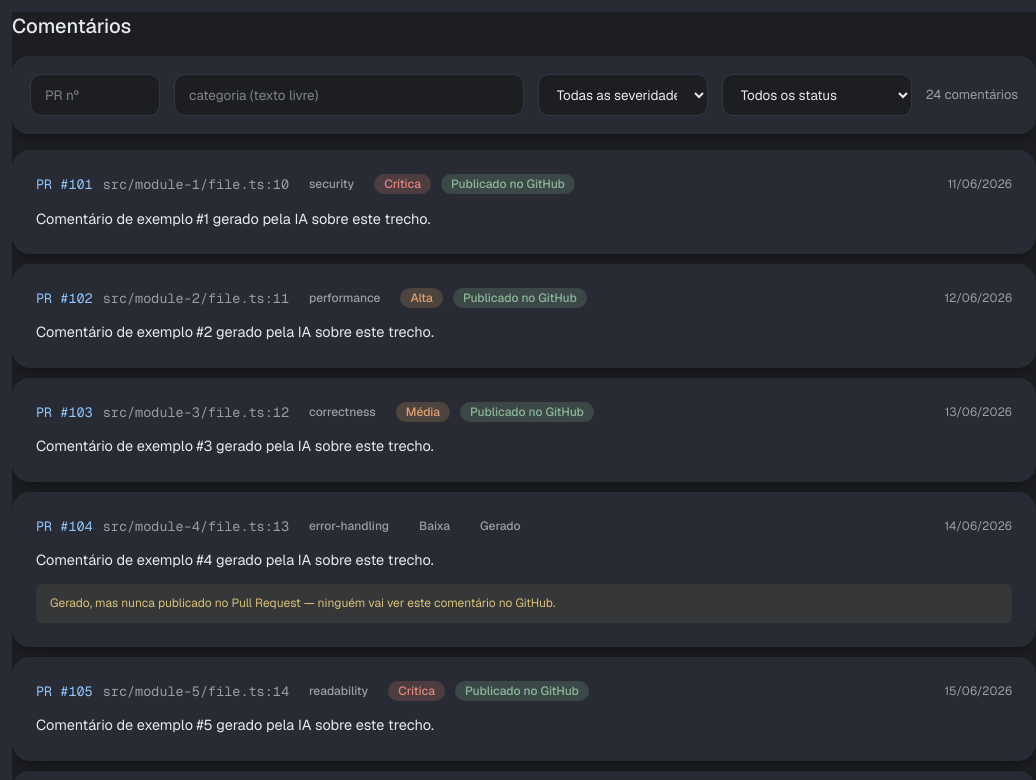
Test: CommentsPage › highlights an orphaned 'generated' comment with the warning box
Expected: the text "24 comentários" is shown, [926,85,1018,105]
Select "Gerado" in the dropdown named "Filtrar por status" at (817, 95), box [722,74,912,116]
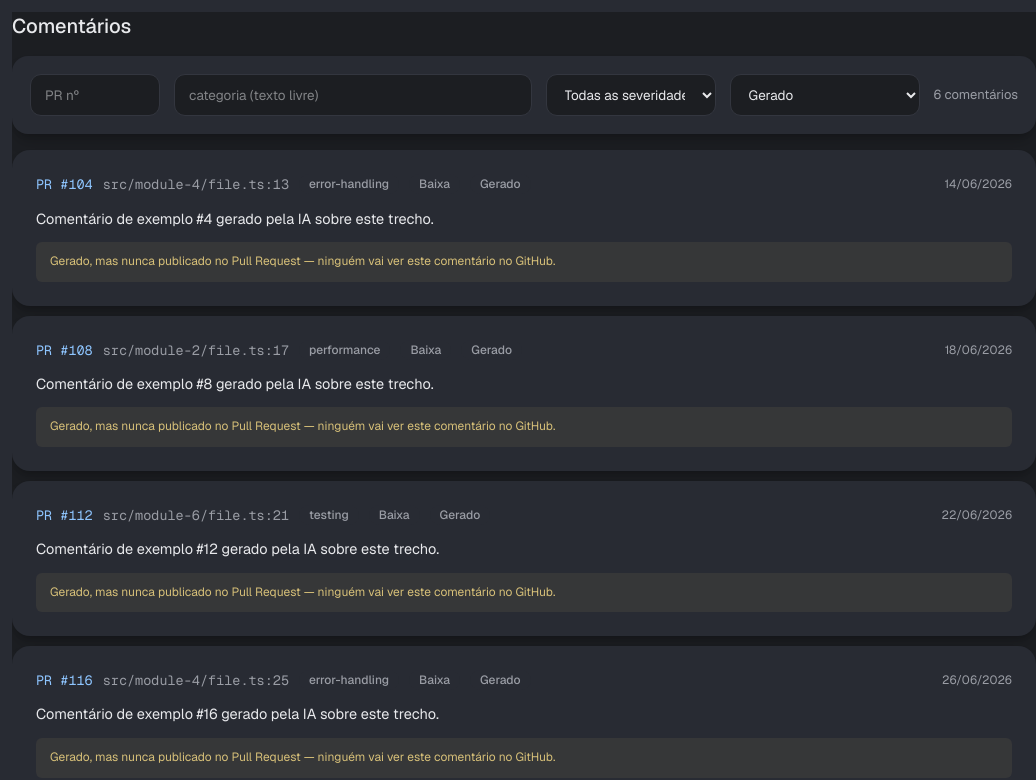
Expected: the text "6 comentários" is shown, [934,85,1018,105]
Expected: the text "nunca publicado no Pull Request" is shown 6 times
